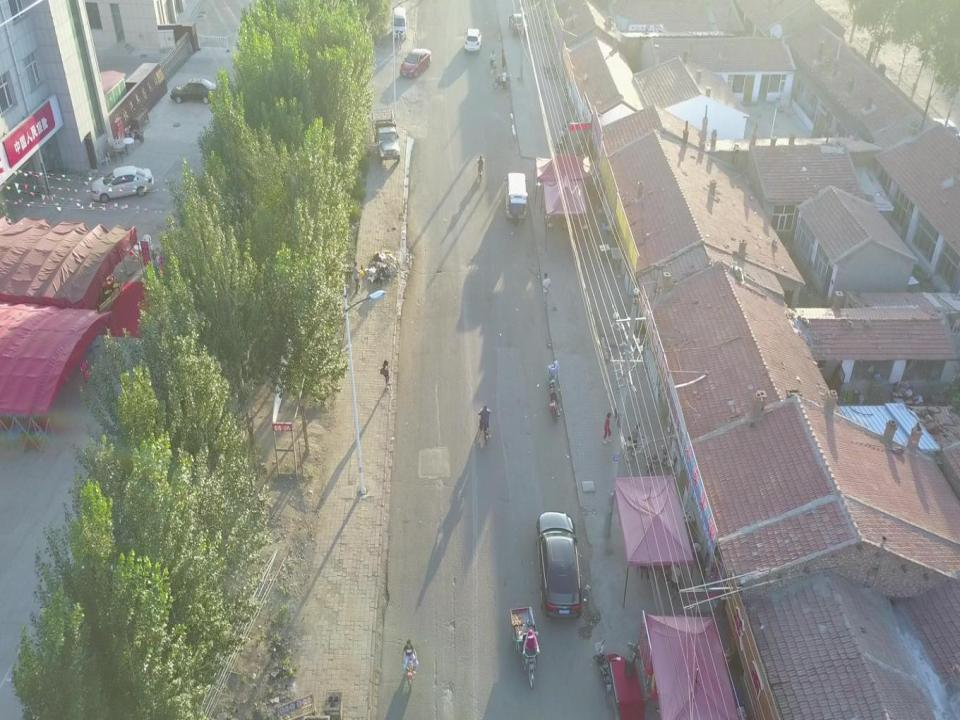car: (90, 165, 154, 203), (170, 78, 218, 104), (399, 48, 432, 79), (508, 13, 530, 36), (465, 28, 482, 53)
truck: (369, 107, 401, 163)
van: (504, 172, 528, 219), (392, 6, 408, 40)
